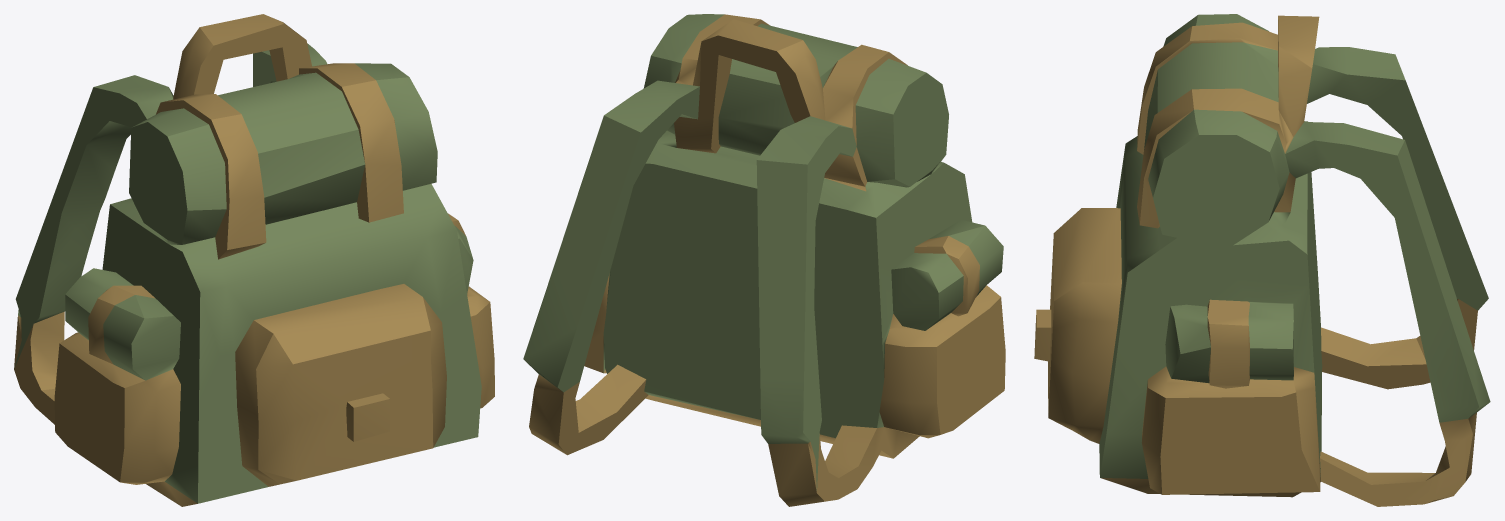
The model's file is prop_canvas_bag.glb.
3 renders of one model, left to right at view 1: azimuth 30°, elevation 25°; view 2: azimuth 150°, elevation 25°; view 3: azimuth 270°, elevation 25°, orthographic. The views are drawn at different scales.
Visible parts, largest first — view 1: PropCanvasBagBody; view 2: PropCanvasBagBody; view 3: PropCanvasBagBody.
Part boxes in pixels (x1,y1,x2,y2): PropCanvasBagBody: (14, 14, 494, 506); PropCanvasBagBody: (523, 14, 1005, 506); PropCanvasBagBody: (1034, 14, 1490, 506).
Size of the model in its own units: 0.9583 by 1 by 1.
